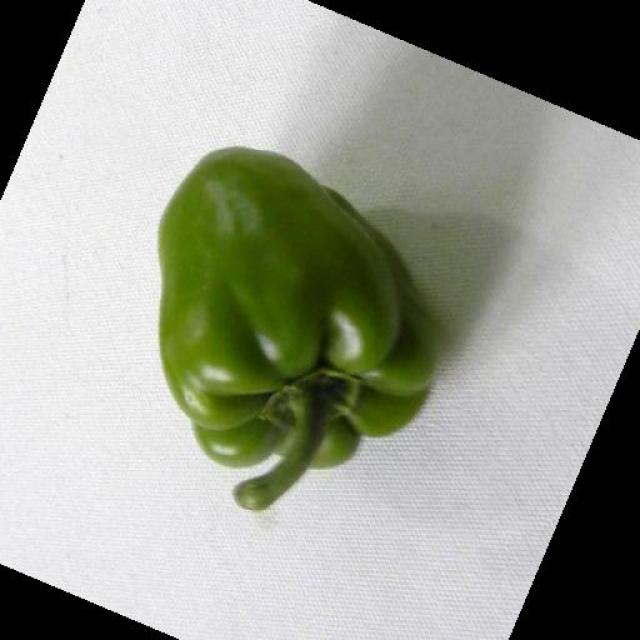Fresh_Capsicum: (159, 152, 450, 506)
